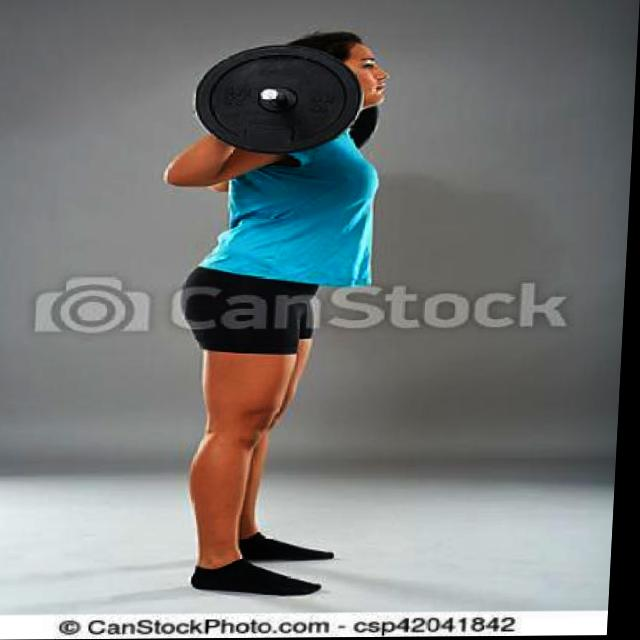barbell: (197, 41, 370, 158)
